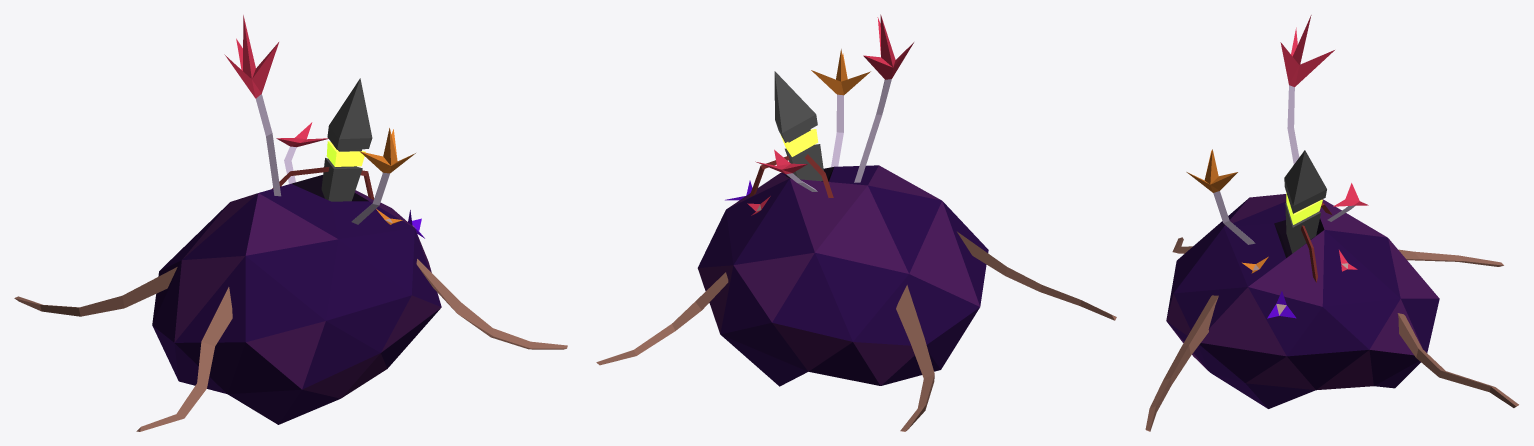
The model's file is Pests-PoisonPlant.fbx.
3 views of the same model, side by side, from view 1: azimuth 30°, elevation 25°; view 2: azimuth 150°, elevation 25°; view 3: azimuth 270°, elevation 25° (orthographic). The views are drawn at different scales.
Parts seen in each view (by area): view 1: Pests-Poison-Plant; view 2: Pests-Poison-Plant; view 3: Pests-Poison-Plant.
Boxes of the visible parts, <box> form: Pests-Poison-Plant: <box>14,15,567,431</box>; Pests-Poison-Plant: <box>596,14,1116,431</box>; Pests-Poison-Plant: <box>1145,15,1518,431</box>.
Size of the model in its own units: 0.9825 by 0.8185 by 0.8486.
